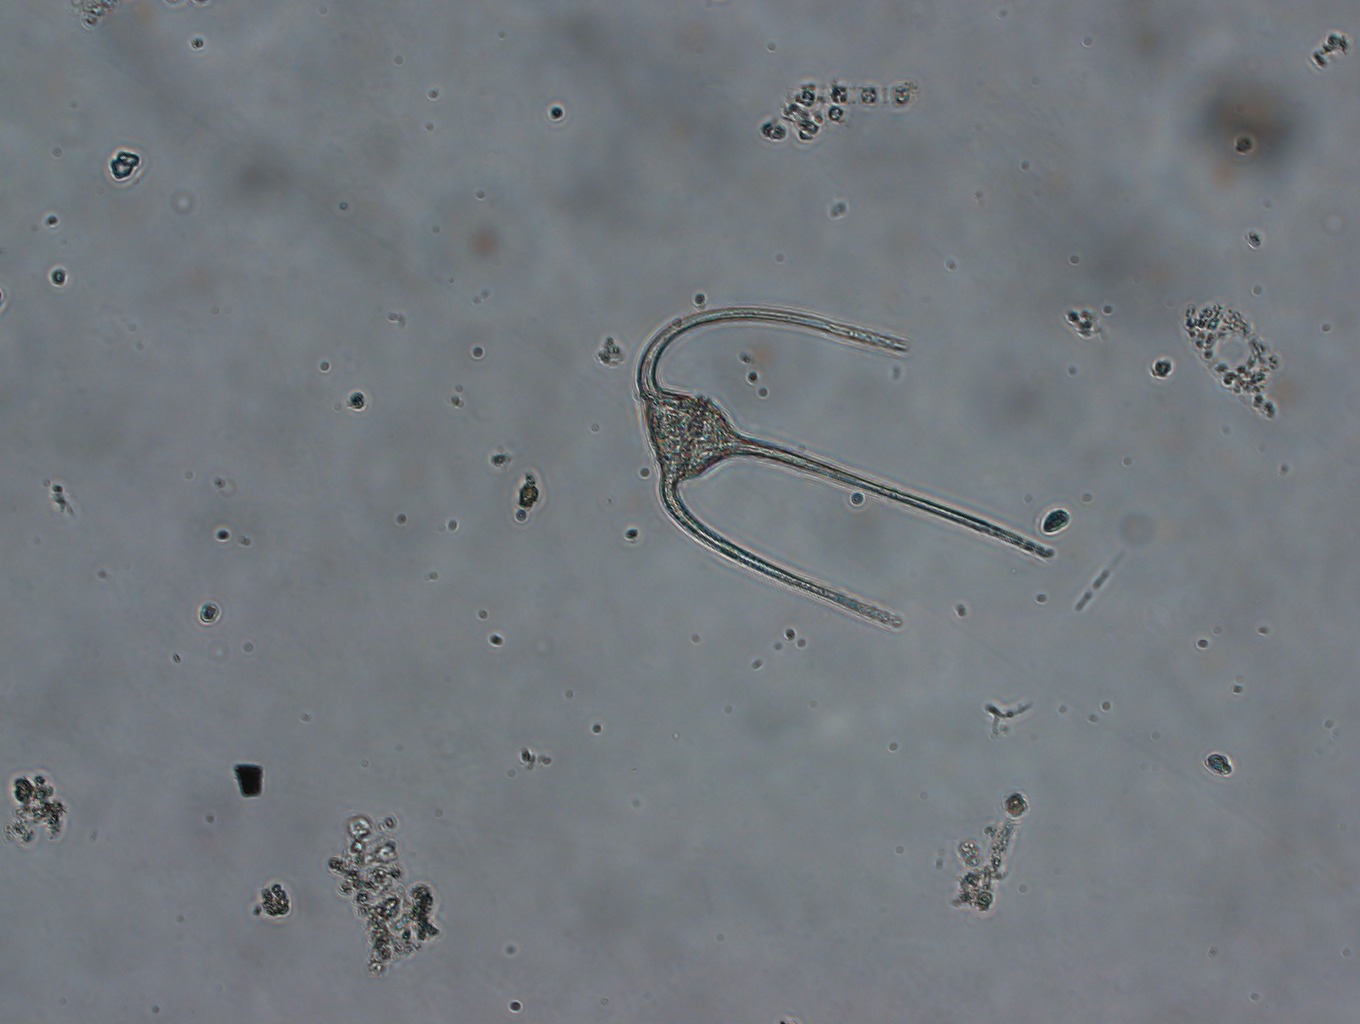ceratium trichoceros: (627, 290, 1064, 639)
skeletonema: (790, 67, 918, 114)
